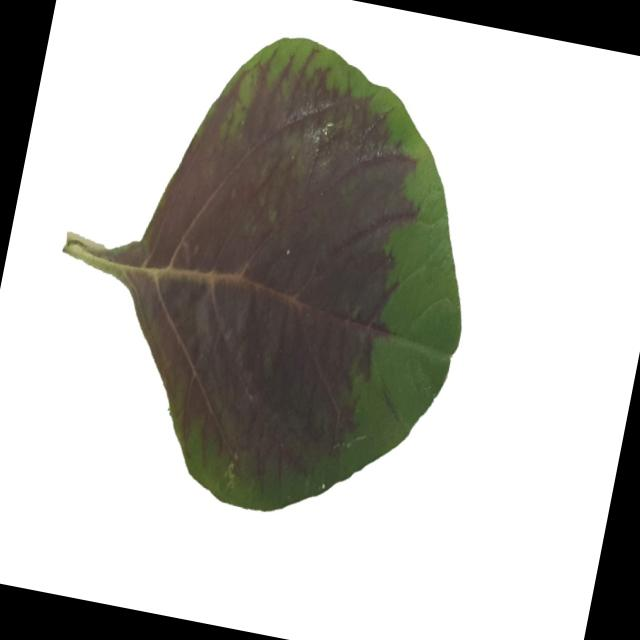Medicinal-Arive Dantu: (22, 0, 510, 543)
